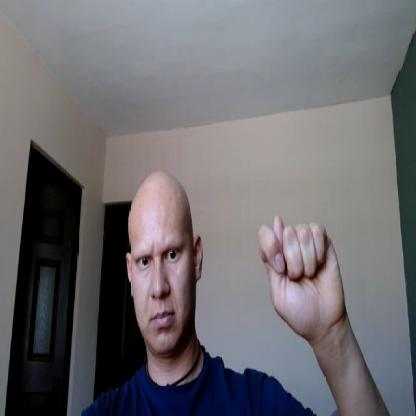T: (258, 211, 346, 340)
